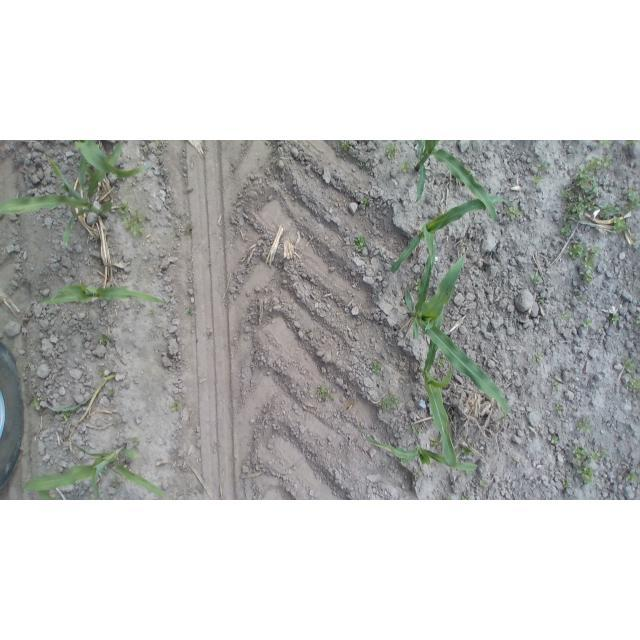Maize: (405, 217, 512, 423), (0, 141, 130, 244), (390, 195, 509, 276), (21, 436, 169, 500), (407, 141, 500, 228), (423, 301, 461, 473), (364, 430, 478, 478), (32, 278, 166, 316), (73, 140, 147, 181)
Weeds: (561, 169, 599, 222), (116, 200, 145, 237), (569, 447, 598, 484), (569, 245, 599, 267), (586, 153, 613, 172), (174, 212, 192, 239), (380, 390, 402, 411), (576, 414, 596, 435), (621, 190, 639, 211), (351, 231, 369, 252), (597, 202, 616, 221), (316, 384, 334, 404), (575, 266, 595, 283), (535, 157, 553, 175), (503, 204, 520, 221), (529, 269, 543, 289), (590, 449, 610, 463), (98, 331, 115, 347), (612, 216, 627, 233), (623, 358, 638, 374), (383, 142, 398, 158), (557, 223, 572, 238), (530, 352, 546, 366), (625, 470, 640, 484), (30, 397, 44, 411), (204, 326, 216, 342), (560, 479, 572, 495), (354, 196, 371, 207), (369, 361, 383, 374), (580, 317, 592, 331), (610, 312, 621, 327), (130, 437, 142, 450), (530, 173, 544, 184), (415, 276, 426, 290), (169, 400, 183, 411), (410, 422, 421, 436), (553, 404, 567, 415), (339, 141, 354, 151), (629, 378, 640, 391), (562, 308, 573, 321), (185, 306, 196, 319), (533, 294, 547, 304), (400, 162, 414, 172), (58, 411, 70, 422), (427, 437, 439, 448), (477, 475, 488, 487), (599, 325, 610, 336), (549, 378, 558, 391), (633, 311, 640, 327), (411, 470, 420, 482), (549, 432, 558, 444), (148, 306, 158, 316), (624, 141, 638, 148), (598, 141, 611, 148), (97, 368, 107, 377), (442, 493, 454, 500), (108, 390, 117, 399), (460, 494, 473, 500), (155, 141, 163, 150), (574, 296, 584, 303)
